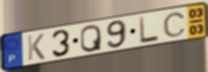3: (50, 28, 73, 58)
9: (106, 19, 128, 50)
C: (162, 12, 188, 39)
K: (26, 32, 47, 62)
L: (138, 15, 161, 45)
Q: (80, 23, 103, 54)
